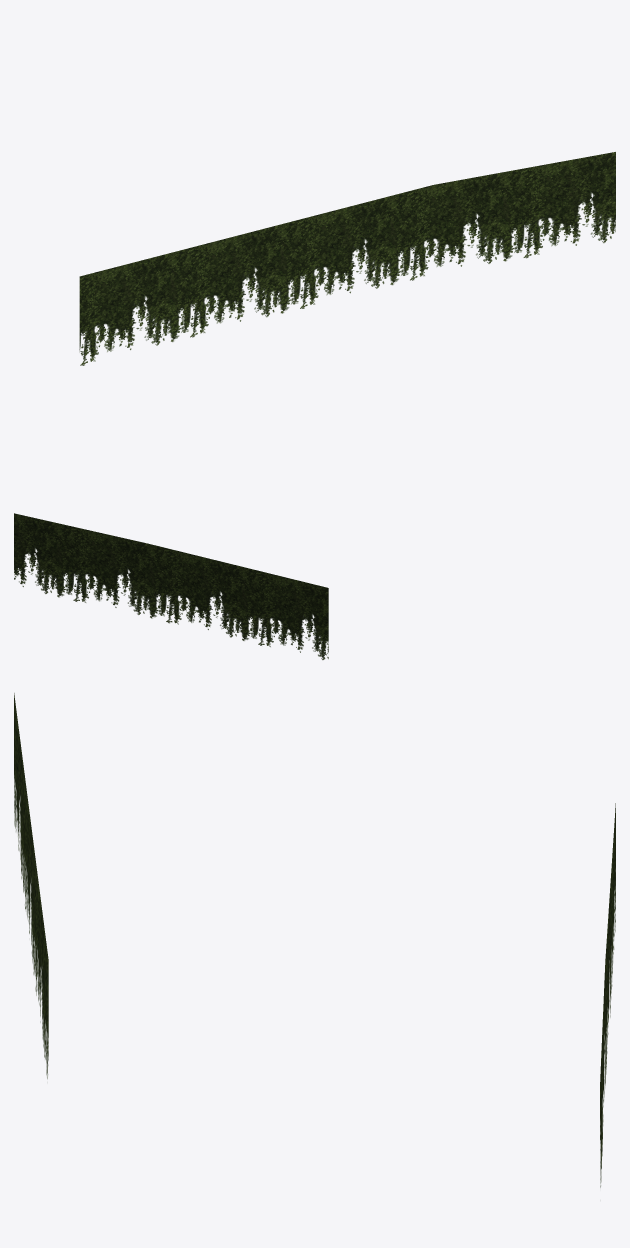
Rendered from vineUnderCave.glb.
3 views of the same model, one above another, from view 1: azimuth 30°, elevation 25°; view 2: azimuth 150°, elevation 25°; view 3: azimuth 270°, elevation 25° (orthographic). The views are drawn at different scales.
Parts seen in each view (by area): view 1: plants.png__; view 2: plants.png__; view 3: plants.png__.
Boxes of the visible parts, left/top/right/bottom form: plants.png__: left=79, top=152, right=615, bottom=365; plants.png__: left=14, top=513, right=328, bottom=659; plants.png__: left=14, top=693, right=615, bottom=1187.
Size of the model in its own units: 38.22 by 7.1 by 25.08.
Materials: 1 (1 with a texture image).
